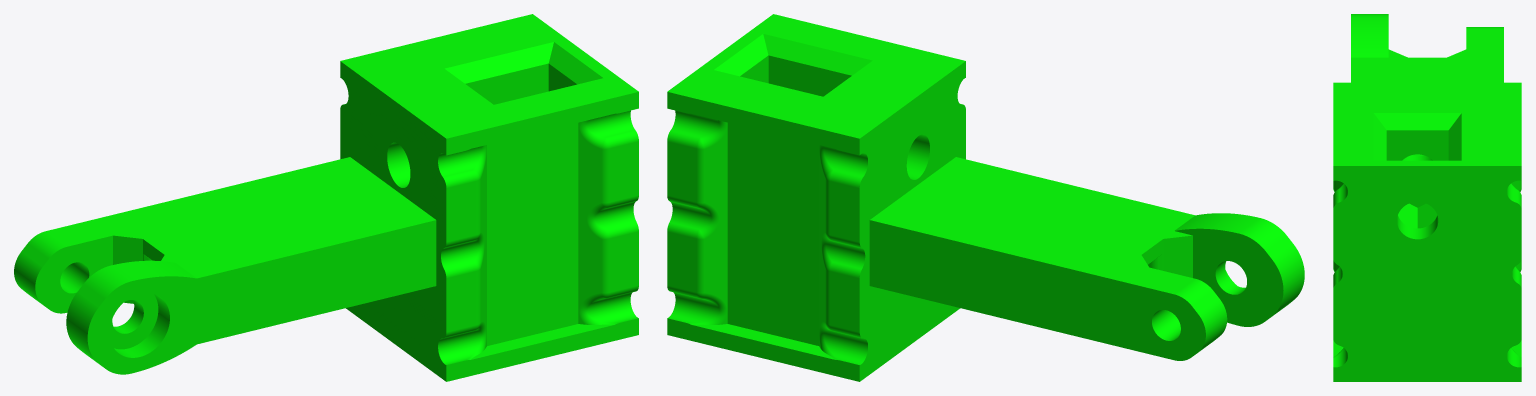
Rendered from XYZ Stage V5_X Stage Body V5.obj.
The picture shows the model from 3 angles, left to right: view 1: azimuth 30°, elevation 25°; view 2: azimuth 150°, elevation 25°; view 3: azimuth 270°, elevation 25°; orthographic projection. The views are drawn at different scales.
Parts seen in each view (by area): view 1: Solid1:9; view 2: Solid1:9; view 3: Solid1:9.
Boxes of the visible parts, x1,y1,x2,y2 form: Solid1:9: (14, 14, 638, 381); Solid1:9: (667, 14, 1304, 381); Solid1:9: (1333, 14, 1521, 381).
Bounding box in the file's own units: 53.69 × 23.05 × 18.25.
